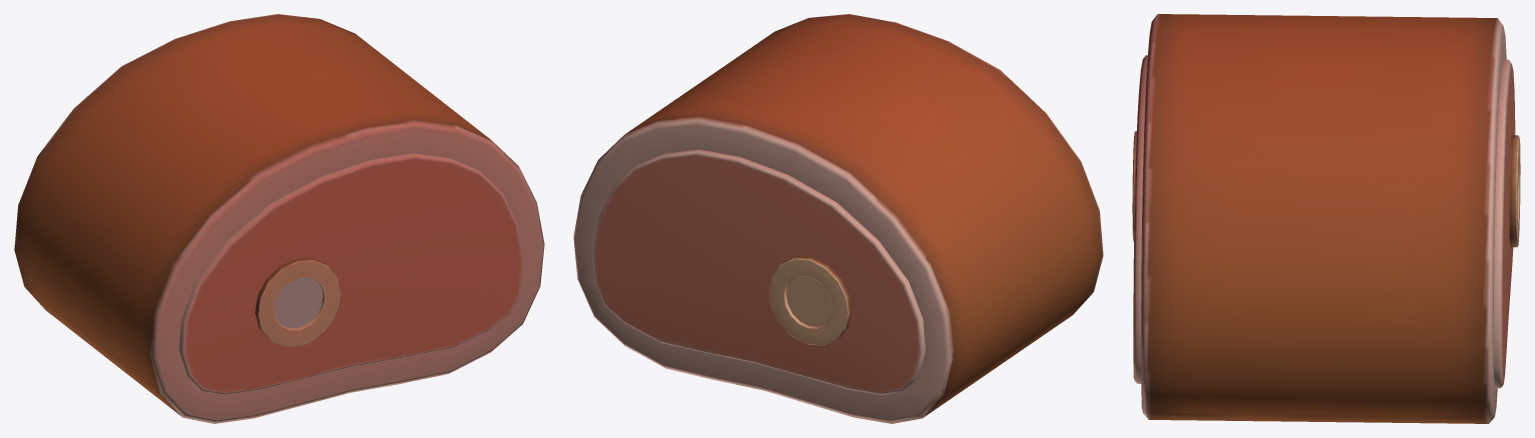
The model's file is Meat_6.fbx.
3 views of the same model, side by side, from view 1: azimuth 30°, elevation 25°; view 2: azimuth 150°, elevation 25°; view 3: azimuth 270°, elevation 25° (orthographic). The views are drawn at different scales.
Parts seen in each view (by area): view 1: Meat_6; view 2: Meat_6; view 3: Meat_6.
Boxes of the visible parts, left/top/right/bottom form: Meat_6: left=14, top=14, right=544, bottom=423; Meat_6: left=573, top=14, right=1103, bottom=423; Meat_6: left=1132, top=14, right=1520, bottom=423.
Size of the model in its own units: 384 by 246 by 277.
